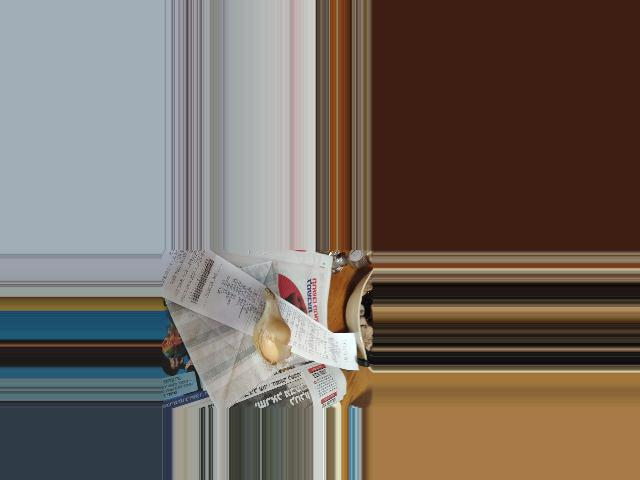onion: (251, 302, 292, 363)
